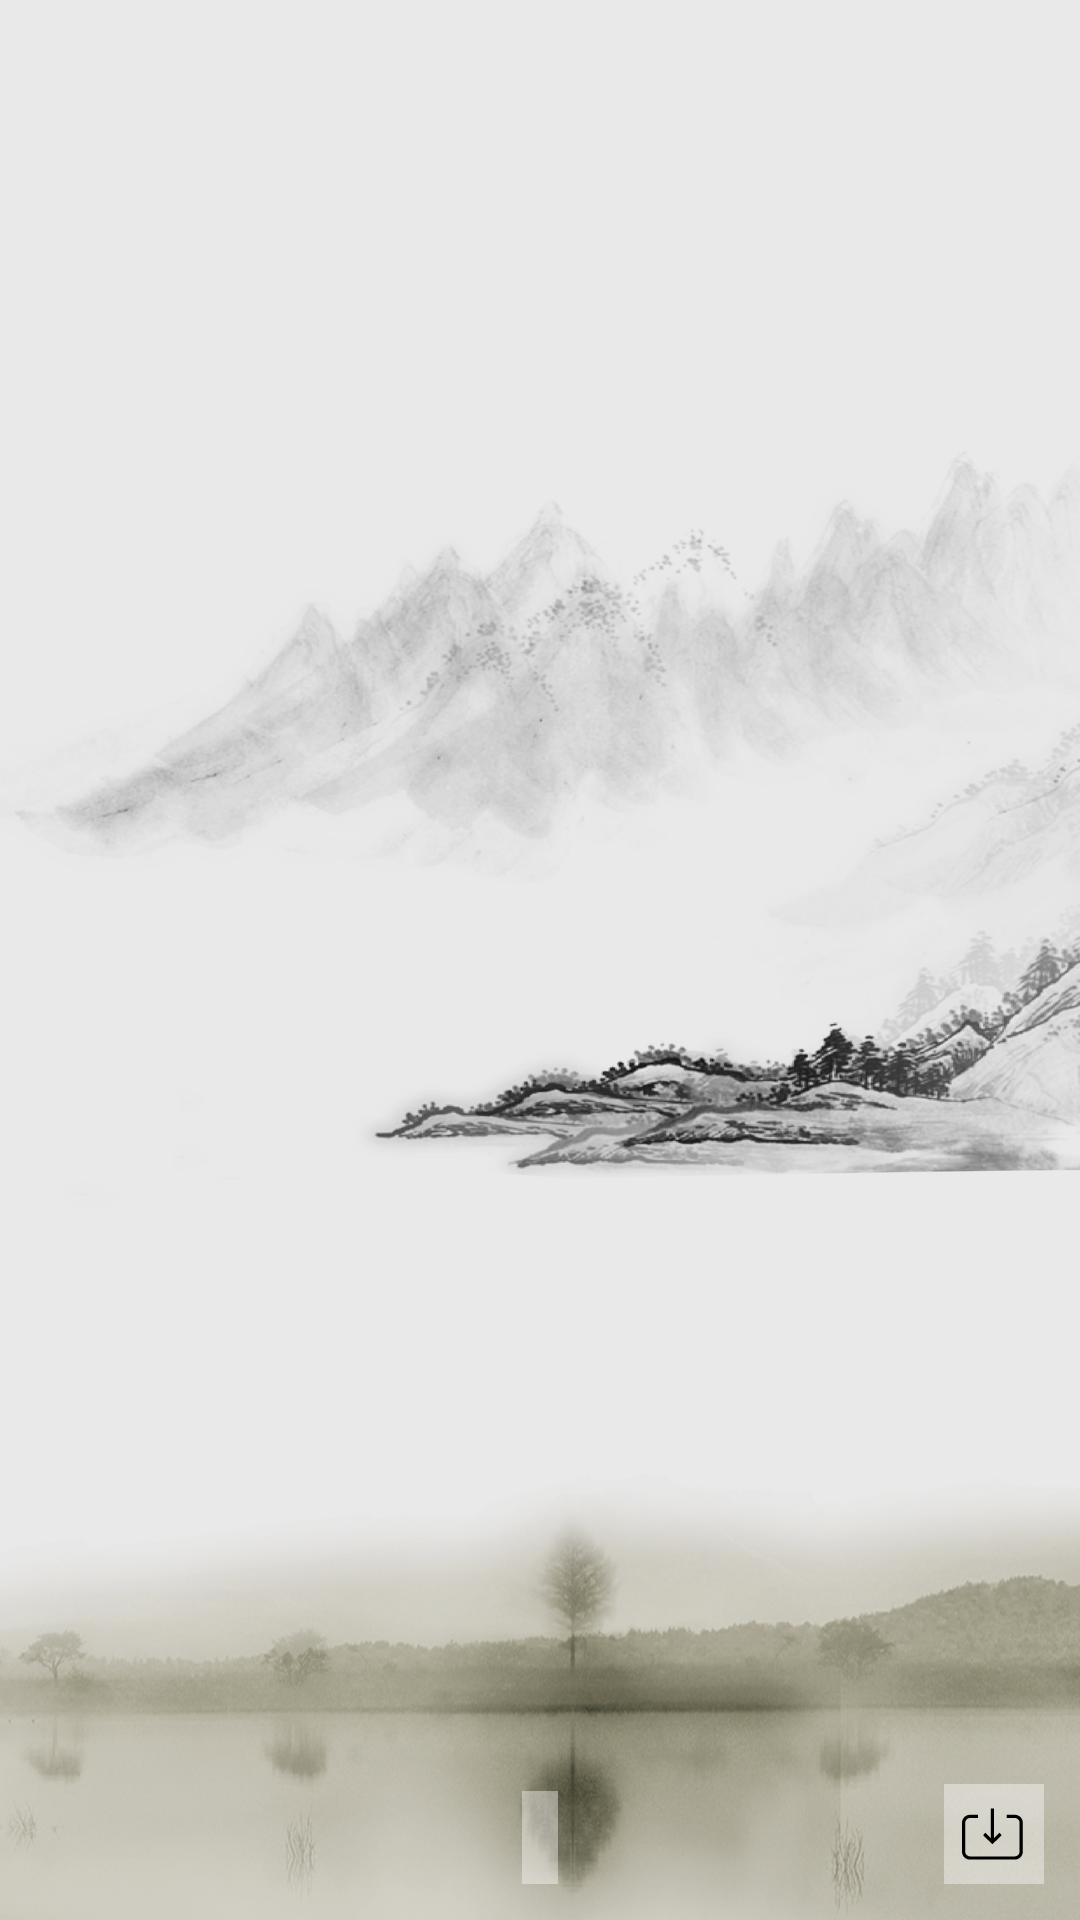

Icon bounding boxes for this 1080*1920 phone screenshot, format bbox=(x1, y1, x2, y2):
download: bbox=(944, 1784, 1044, 1884)
